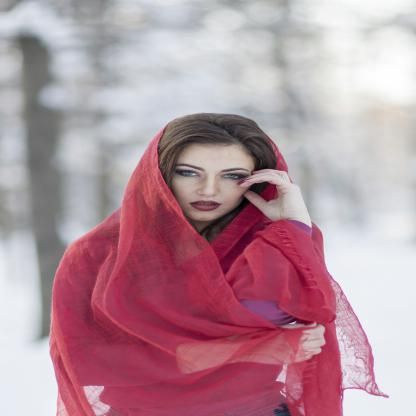Eye: (172, 164, 206, 180), (216, 169, 244, 181)
Mouth: (186, 198, 226, 212)
Nose: (196, 176, 221, 197)
